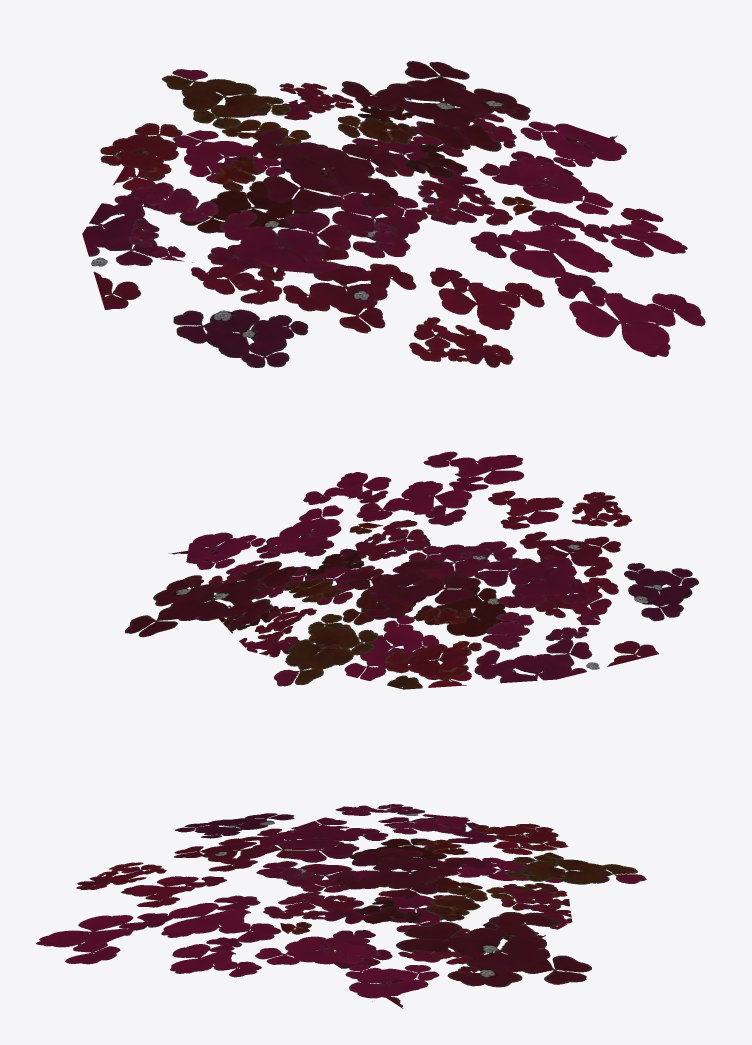
The picture shows the model from 3 angles, top to bottom: view 1: azimuth 30°, elevation 25°; view 2: azimuth 150°, elevation 25°; view 3: azimuth 270°, elevation 25°; orthographic projection. The views are drawn at different scales.
Visible parts, largest first — view 1: SM_WT_Sorrel_01_C_LOD0; view 2: SM_WT_Sorrel_01_C_LOD0; view 3: SM_WT_Sorrel_01_C_LOD0.
Boxes of the visible parts, x1,y1,x2,y2 form: SM_WT_Sorrel_01_C_LOD0: [82, 61, 705, 367]; SM_WT_Sorrel_01_C_LOD0: [125, 451, 698, 689]; SM_WT_Sorrel_01_C_LOD0: [36, 804, 646, 1008].
Bounding box in the file's own units: 0.9699 × 0.0984 × 1.24.
Materials: 1 (1 with a texture image).
